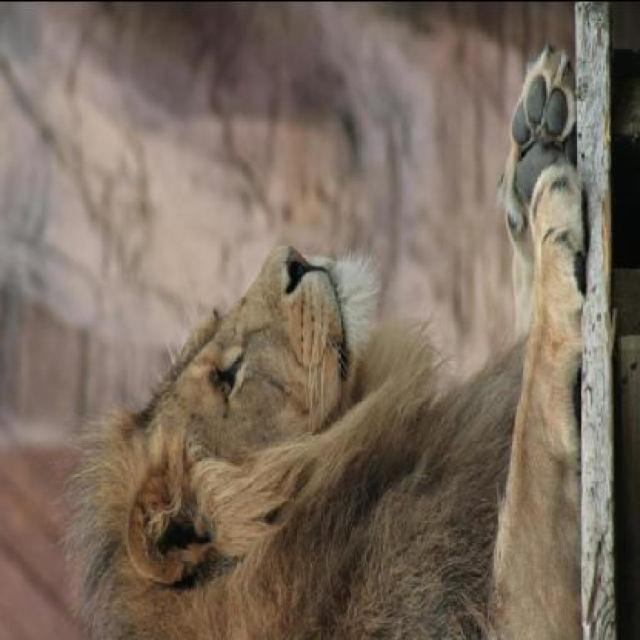Lion: (64, 26, 594, 639)
